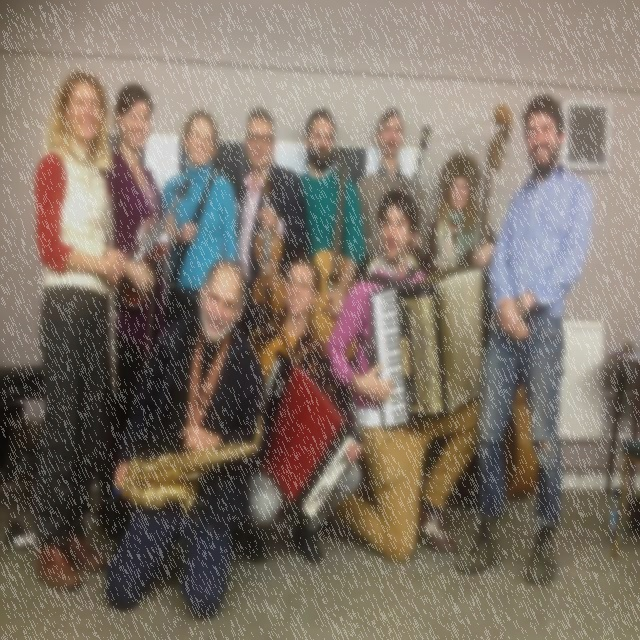pessoa: (456, 91, 596, 587), (320, 188, 482, 564), (103, 257, 267, 617), (23, 61, 128, 598), (240, 252, 366, 566), (100, 80, 178, 457), (230, 103, 312, 351), (157, 106, 240, 336), (286, 104, 364, 323), (357, 105, 435, 276), (423, 151, 499, 279)
